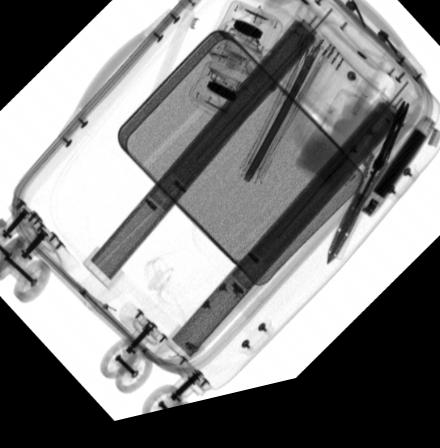Knife: (343, 117, 412, 238)
Powerbank: (358, 134, 437, 238)
Scissors: (324, 116, 422, 282)
